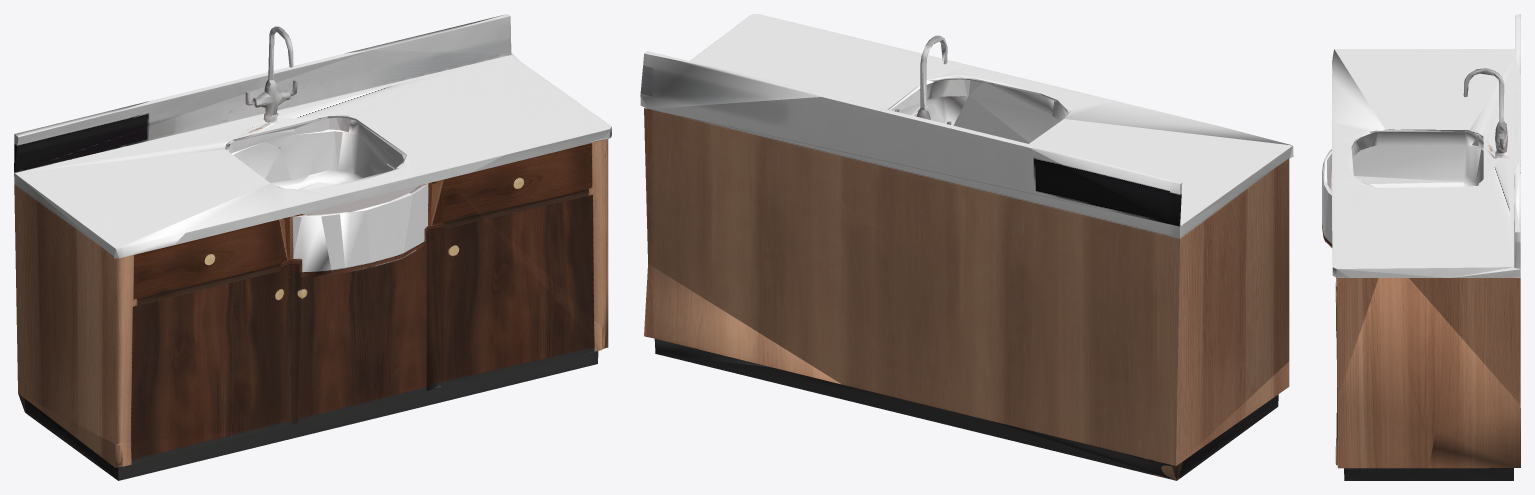
File: PR_KitchenetteSink.fbx
The picture shows the model from 3 angles, left to right: view 1: azimuth 30°, elevation 25°; view 2: azimuth 150°, elevation 25°; view 3: azimuth 270°, elevation 25°; orthographic projection. The views are drawn at different scales.
Parts seen in each view (by area): view 1: Mesh_0; view 2: Mesh_0; view 3: Mesh_0.
Boxes of the visible parts, x1,y1,x2,y2 form: Mesh_0: (14,14,611,480); Mesh_0: (640,14,1293,480); Mesh_0: (1322,14,1520,480).
Bounding box in the file's own units: 189 × 122 × 72.06.
1 material, 1 textured.
